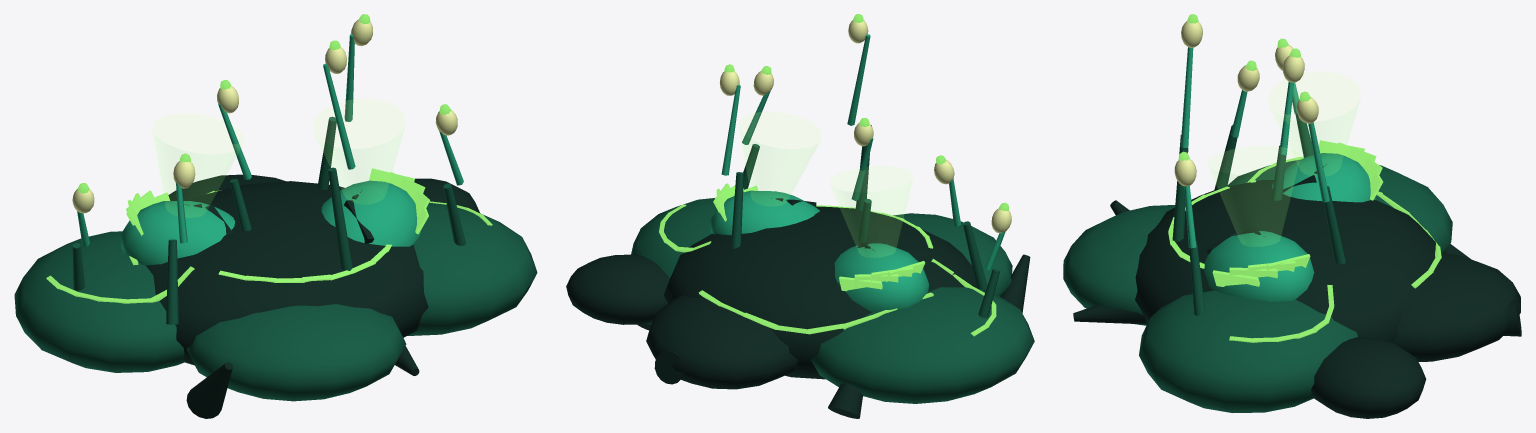
The model's file is spore-veil-pelagia.glb.
The picture shows the model from 3 angles, left to right: view 1: azimuth 30°, elevation 25°; view 2: azimuth 150°, elevation 25°; view 3: azimuth 270°, elevation 25°; orthographic projection. The views are drawn at different scales.
Parts seen in each view (by area): view 1: lobe-core, lobe-south, lobe-west, lobe-east, gill-haze-stb, gill-haze-port, gill-mound-port, gill-mound-stb, root-flare-3, lobe-north, stalk-5-stem-lower, stalk-4-stem-lower (+9 smaller); view 2: lobe-core, lobe-west, lobe-north, lobe-runt, gill-haze-stb, gill-haze-port, gill-mound-port, lobe-east, gill-mound-stb, lobe-south, root-flare-5, root-flare-3 (+6 smaller); view 3: lobe-core, lobe-east, lobe-north, lobe-runt, lobe-south, gill-haze-stb, gill-haze-port, gill-mound-stb, lobe-west, gill-mound-port, root-flare-2, stalk-5-stem-upper (+15 smaller).
Part boxes in pixels (x1,y1,x2,y2): lobe-core: (145, 181, 428, 365); lobe-south: (186, 304, 406, 401); lobe-west: (14, 231, 185, 372); lobe-east: (407, 202, 537, 335); gill-haze-stb: (313, 99, 404, 203); gill-haze-port: (152, 113, 244, 217); gill-mound-port: (120, 201, 234, 265); gill-mound-stb: (321, 180, 421, 246); root-flare-3: (186, 362, 232, 418); lobe-north: (168, 174, 285, 200); stalk-5-stem-lower: (328, 167, 352, 270); stalk-4-stem-lower: (166, 239, 178, 324); lobe-core: (664, 206, 985, 379); lobe-west: (811, 287, 1034, 403); lobe-north: (646, 295, 797, 389); lobe-runt: (566, 254, 669, 324); gill-haze-stb: (739, 112, 821, 205); gill-haze-port: (830, 166, 913, 257); gill-mound-port: (834, 243, 928, 311); lobe-east: (631, 198, 717, 278); gill-mound-stb: (710, 190, 819, 235); lobe-south: (893, 213, 1012, 296); root-flare-5: (828, 383, 862, 418); root-flare-3: (1001, 254, 1030, 313); lobe-core: (1135, 180, 1435, 342); lobe-east: (1139, 290, 1357, 412); lobe-north: (1392, 252, 1520, 361); lobe-runt: (1311, 337, 1426, 418); lobe-south: (1063, 205, 1175, 325); gill-haze-stb: (1208, 146, 1300, 246); gill-haze-port: (1268, 71, 1360, 175); gill-mound-stb: (1203, 231, 1314, 301); lobe-west: (1227, 159, 1452, 252); gill-mound-port: (1271, 153, 1376, 202); root-flare-2: (1073, 304, 1146, 324); stalk-5-stem-upper: (1180, 47, 1193, 147).
Size of the model in its own units: 148 by 102 by 126.
